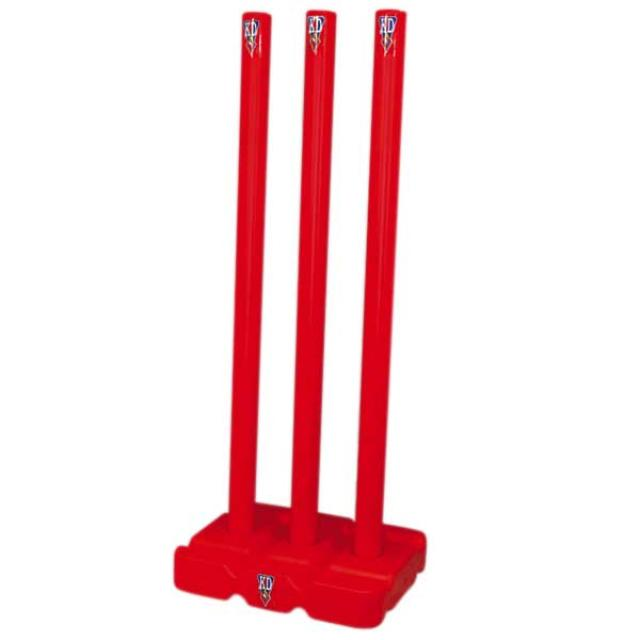stump: (242, 9, 387, 544)
